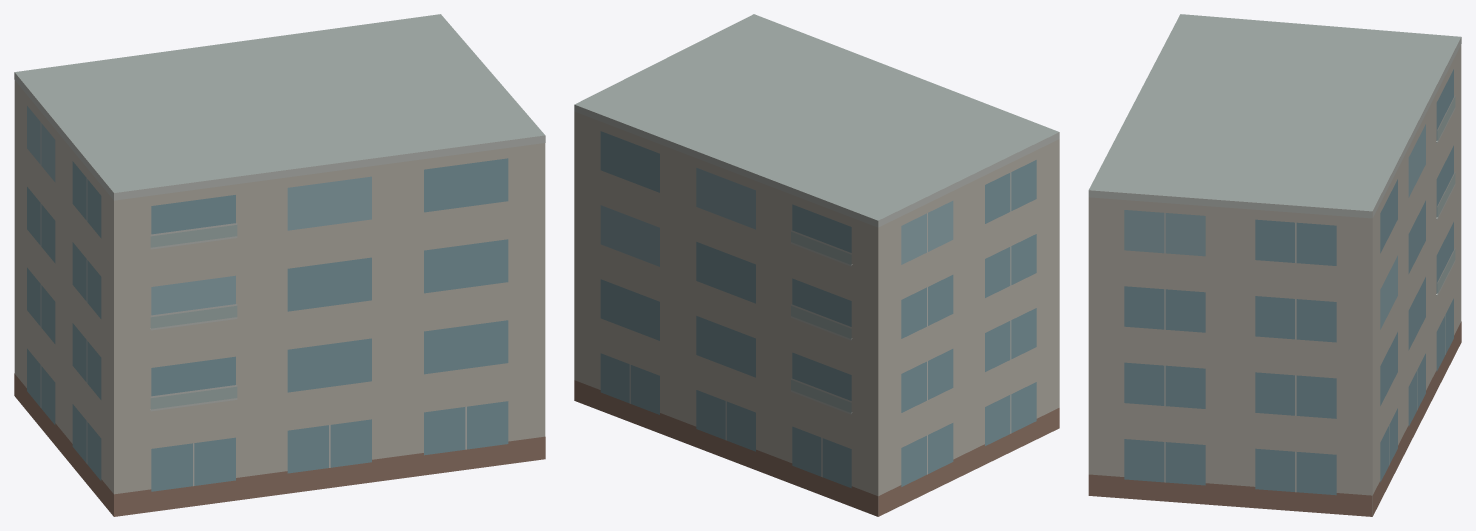
The model's file is survey-upis-32801421.glb.
3 renders of one model, left to right at view 1: azimuth 30°, elevation 25°; view 2: azimuth 150°, elevation 25°; view 3: azimuth 270°, elevation 25°, orthographic. The views are drawn at different scales.
Parts seen in each view (by area): view 1: survey-upis-32801421.tmp; view 2: survey-upis-32801421.tmp; view 3: survey-upis-32801421.tmp.
Part boxes in pixels (x1,y1,x2,y2): survey-upis-32801421.tmp: (14,14,545,516); survey-upis-32801421.tmp: (574,14,1059,516); survey-upis-32801421.tmp: (1088,14,1461,516).
Bounding box in the file's own units: 14.56 × 10.5 × 11.63.
